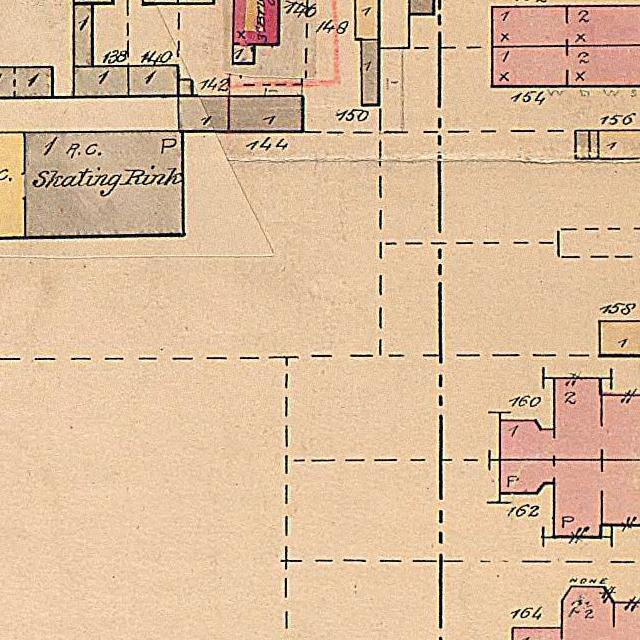building-footprints: (0, 133, 183, 236), (500, 378, 640, 460), (500, 460, 640, 537), (512, 586, 640, 640), (492, 6, 640, 47), (492, 45, 640, 86), (233, 0, 279, 63), (229, 96, 303, 132), (179, 96, 229, 132), (74, 66, 129, 97), (0, 68, 53, 98), (129, 66, 178, 95), (74, 4, 93, 67), (361, 40, 379, 105), (575, 131, 599, 158), (409, 0, 434, 14), (178, 79, 192, 96)
